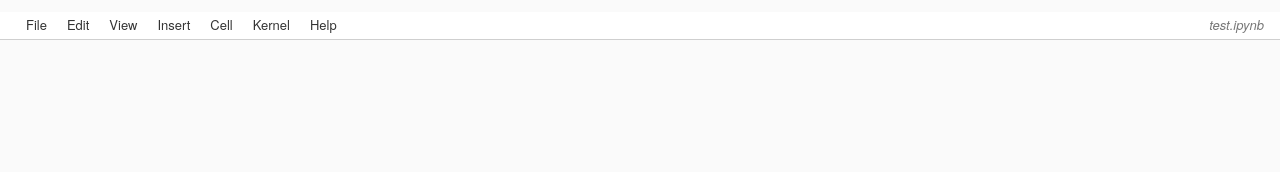
Test: MenuBar › opens Help dropdown with shortcuts option
Step 1. Click the text "Help" → x=323, y=24, box [310,15,337,34]
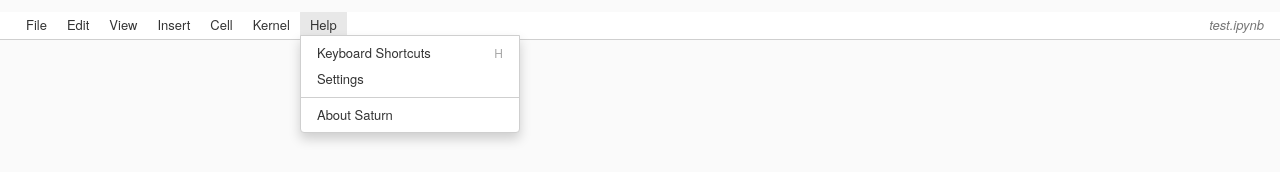
Now the text "Keyboard Shortcuts" is shown, box [317,44,431,62]
